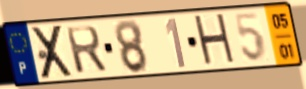1: (164, 17, 187, 71)
5: (232, 12, 269, 64)
8: (113, 17, 150, 76)
H: (192, 11, 239, 70)
R: (64, 24, 110, 76)
X: (30, 23, 76, 82)
